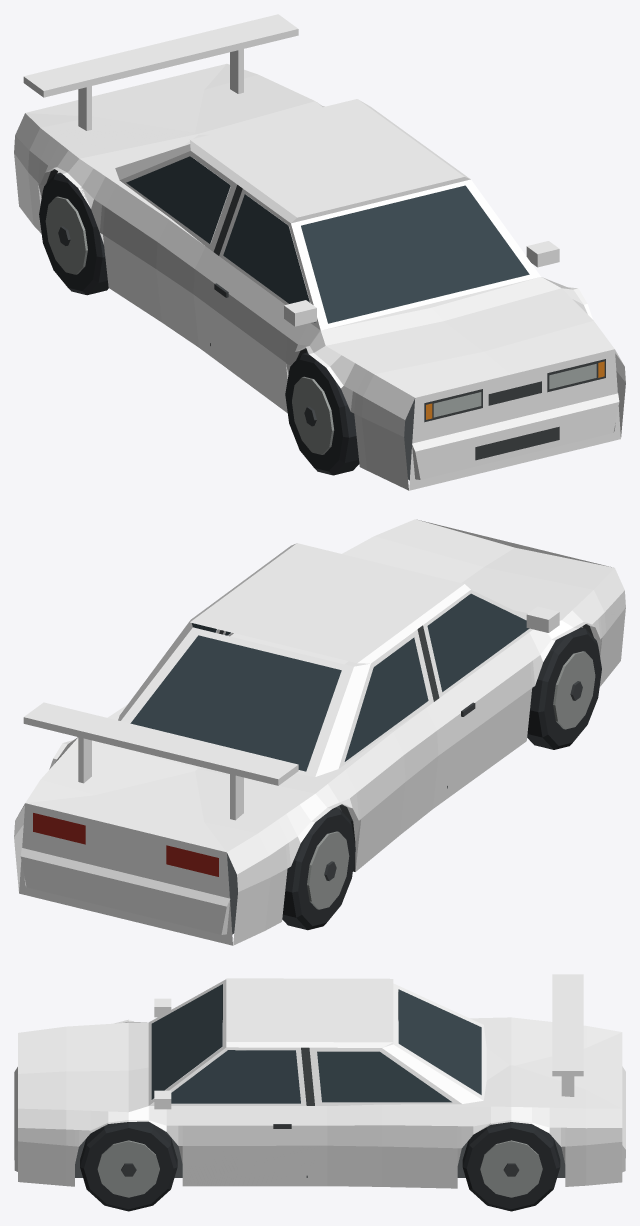
File: hayase_kiri_corrida.glb
3 views of the same model, one above another, from view 1: azimuth 30°, elevation 25°; view 2: azimuth 150°, elevation 25°; view 3: azimuth 270°, elevation 25° (orthographic). The views are drawn at different scales.
Parts seen in each view (by area): view 1: hayase_kiri_corrida; view 2: hayase_kiri_corrida; view 3: hayase_kiri_corrida.
Boxes of the visible parts, <box> form: hayase_kiri_corrida: <box>14,14,625,490</box>; hayase_kiri_corrida: <box>14,519,625,945</box>; hayase_kiri_corrida: <box>14,974,625,1211</box>.
Size of the model in its own units: 1.7 by 1.19 by 4.3.
8 materials, 1 textured.
